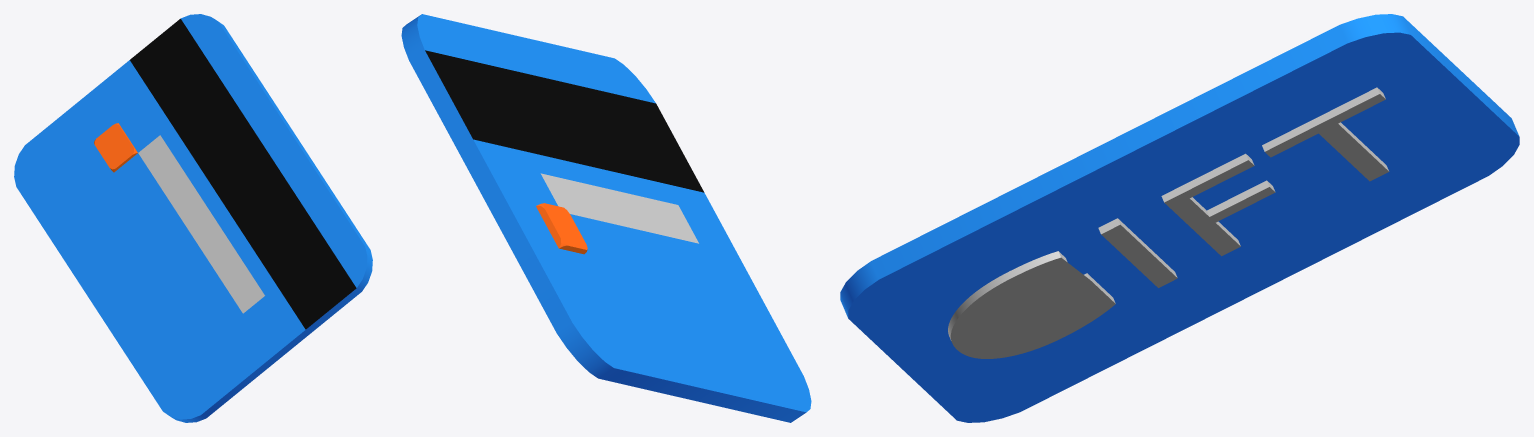
Rendered from gift_card.fbx.
3 views of the same model, side by side, from view 1: azimuth 30°, elevation 25°; view 2: azimuth 150°, elevation 25°; view 3: azimuth 270°, elevation 25° (orthographic). The views are drawn at different scales.
Parts seen in each view (by area): view 1: Cube; view 2: Cube; view 3: Cube, Fill.
Part boxes in pixels (x1=…): Cube: x1=14, y1=14, x2=372, y2=422; Cube: x1=401, y1=14, x2=811, y2=422; Cube: x1=840, y1=14, x2=1519, y2=422; Fill: x1=948, y1=87, x2=1389, y2=358.
Bounding box in the file's own units: 51.56 × 80.11 × 95.59.
